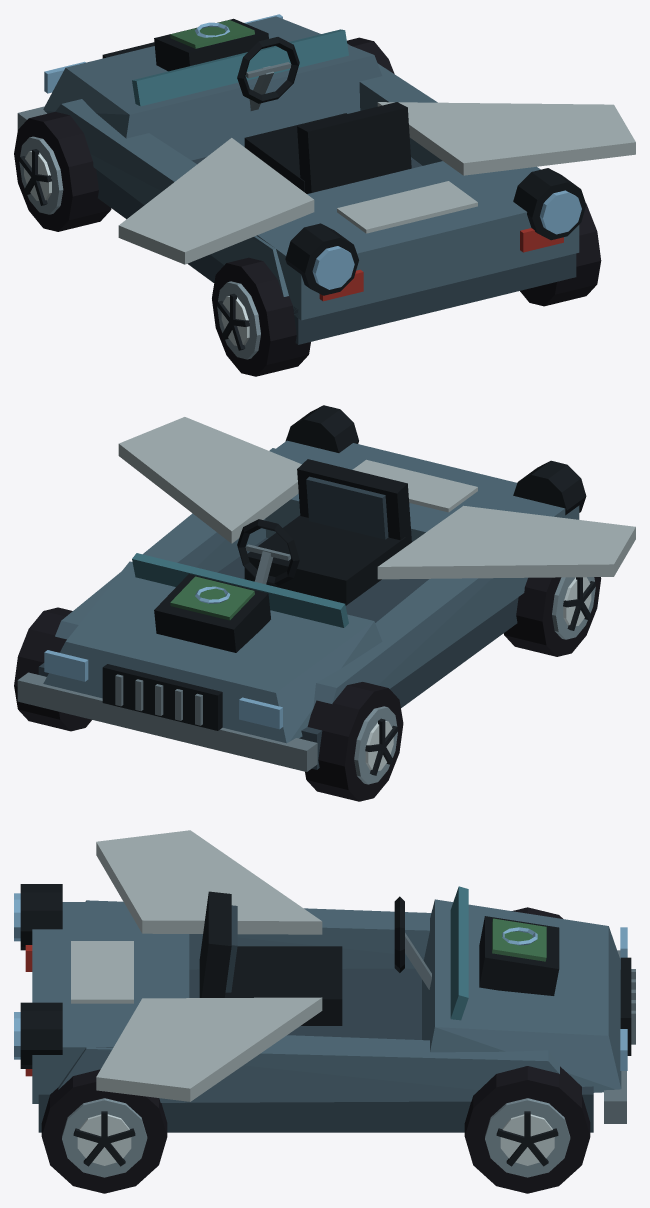
The model's file is kart.glb.
The picture shows the model from 3 angles, top to bottom: view 1: azimuth 30°, elevation 25°; view 2: azimuth 150°, elevation 25°; view 3: azimuth 270°, elevation 25°; orthographic projection. The views are drawn at different scales.
Visible parts, largest first — view 1: identity-sedan-sedan-road-car-body, identity-sedan-motif-wings, identity-sedan-driver-cockpit, wheel-front-left, wheel-rear-left, identity-sedan-motif-thrusters, identity-sedan-motif-scanner, wheel-rear-right, wheel-front-right; view 2: identity-sedan-sedan-road-car-body, identity-sedan-motif-wings, identity-sedan-driver-cockpit, wheel-front-left, identity-sedan-motif-scanner, wheel-rear-left, identity-sedan-motif-thrusters, wheel-front-right; view 3: identity-sedan-sedan-road-car-body, identity-sedan-motif-wings, wheel-front-right, wheel-rear-right, identity-sedan-driver-cockpit, identity-sedan-motif-scanner, identity-sedan-motif-thrusters.
Boxes of the visible parts, x1=… form: identity-sedan-sedan-road-car-body: x1=17, y1=14, x2=579, y2=344; identity-sedan-motif-wings: x1=118, y1=102, x2=635, y2=264; identity-sedan-driver-cockpit: x1=237, y1=37, x2=411, y2=193; wheel-front-left: x1=14, y1=112, x2=111, y2=231; wheel-rear-left: x1=212, y1=257, x2=310, y2=376; identity-sedan-motif-thrusters: x1=285, y1=168, x2=586, y2=295; identity-sedan-motif-scanner: x1=154, y1=18, x2=268, y2=71; wheel-rear-right: x1=520, y1=203, x2=601, y2=306; wheel-front-right: x1=347, y1=37, x2=394, y2=73; identity-sedan-sedan-road-car-body: x1=17, y1=440, x2=579, y2=771; identity-sedan-motif-wings: x1=118, y1=417, x2=635, y2=579; identity-sedan-driver-cockpit: x1=237, y1=459, x2=411, y2=605; wheel-front-left: x1=305, y1=682, x2=403, y2=801; identity-sedan-motif-scanner: x1=154, y1=574, x2=270, y2=652; wheel-rear-left: x1=503, y1=577, x2=601, y2=656; identity-sedan-motif-thrusters: x1=285, y1=405, x2=586, y2=515; wheel-front-right: x1=14, y1=607, x2=91, y2=731; identity-sedan-sedan-road-car-body: x1=25, y1=886, x2=635, y2=1132; identity-sedan-motif-wings: x1=96, y1=830, x2=322, y2=1101; wheel-front-right: x1=464, y1=1066, x2=590, y2=1193; wheel-rear-right: x1=41, y1=1069, x2=167, y2=1193; identity-sedan-driver-cockpit: x1=199, y1=891, x2=431, y2=1025; identity-sedan-motif-scanner: x1=479, y1=916, x2=559, y2=995; identity-sedan-motif-thrusters: x1=14, y1=884, x2=62, y2=1068.
Bounding box in the file's own units: 2.92 × 1.09 × 2.97.
